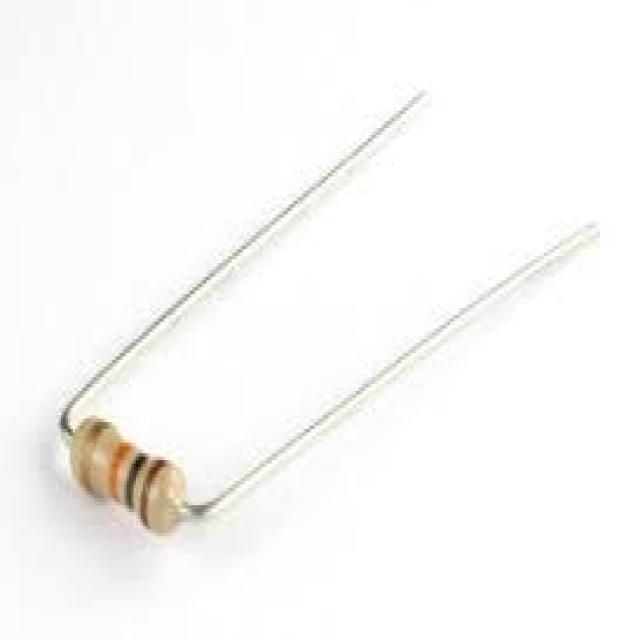Resistor: (68, 415, 185, 533)
black: (129, 450, 147, 511)
brown: (139, 457, 168, 536)
gold: (83, 423, 110, 494)
orange: (111, 443, 133, 511)
